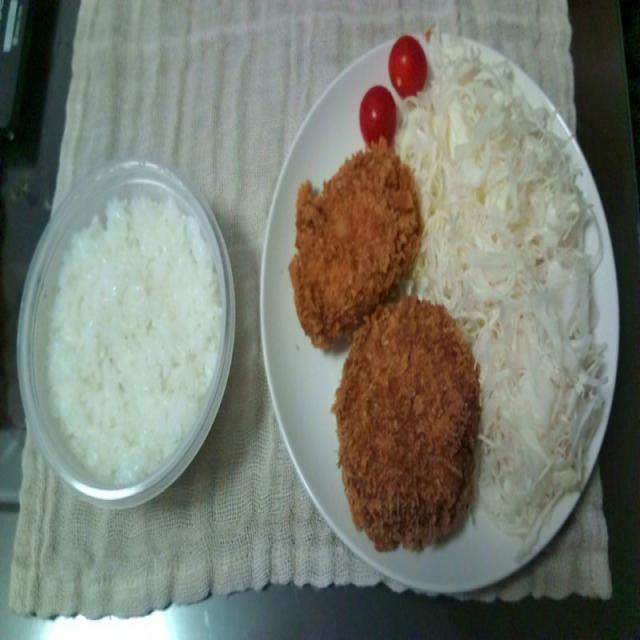Rice: (48, 194, 228, 493)
